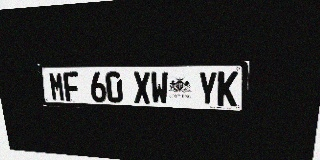0: (105, 72, 123, 103)
6: (89, 72, 107, 102)
F: (63, 72, 80, 102)
K: (217, 71, 238, 107)
M: (48, 72, 66, 101)
W: (150, 72, 168, 104)
X: (133, 72, 151, 104)
Y: (198, 71, 217, 106)
